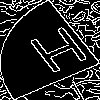H: (25, 25, 99, 83)
